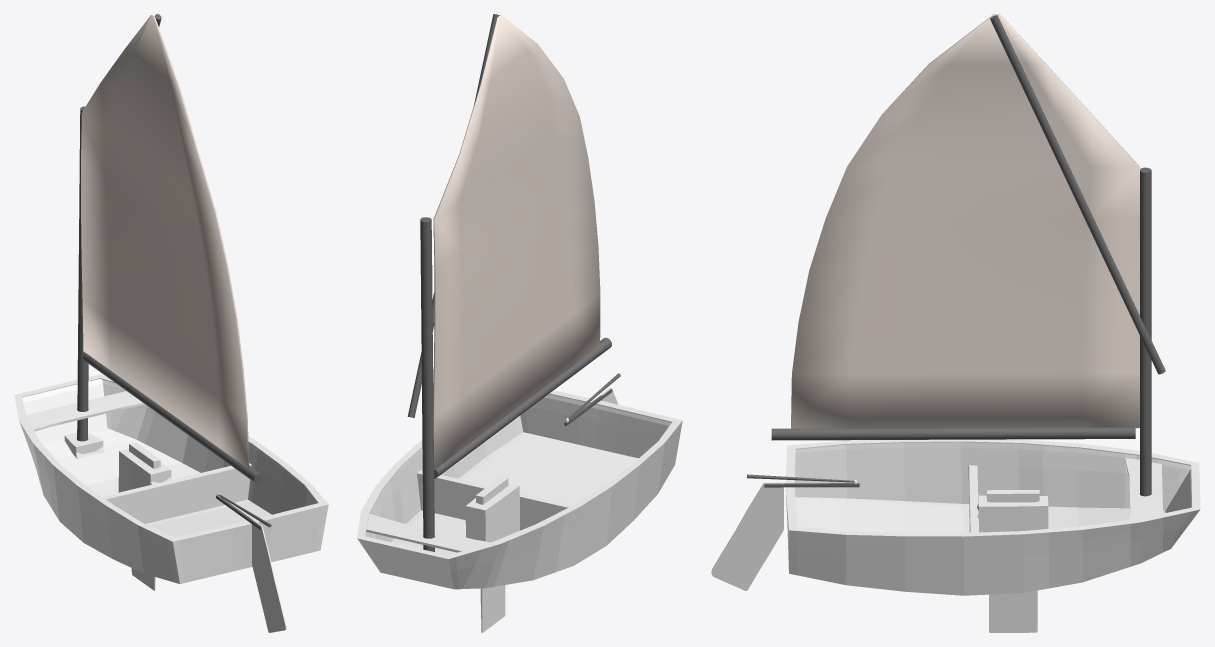
3 views of the same model, side by side, from view 1: azimuth 30°, elevation 25°; view 2: azimuth 150°, elevation 25°; view 3: azimuth 270°, elevation 25° (orthographic). The views are drawn at different scales.
Visible parts, largest first — view 1: sail_sail_0, body_body_0, boom_aluminium_0; view 2: sail_sail_0, body_body_0, boom_aluminium_0; view 3: sail_sail_0, body_body_0, boom_aluminium_0.
Boxes of the visible parts, box(x1,y1,x2,y2) form: sail_sail_0: box(81, 15, 248, 468); body_body_0: box(14, 374, 328, 632); boom_aluminium_0: box(77, 14, 271, 529); sail_sail_0: box(433, 15, 600, 470); body_body_0: box(357, 387, 682, 632); boom_aluminium_0: box(407, 14, 620, 551); sail_sail_0: box(791, 14, 1140, 428); body_body_0: box(711, 439, 1200, 632); boom_aluminium_0: box(747, 15, 1165, 496).
Size of the model in its own units: 5.77 by 17.3 by 12.37.
